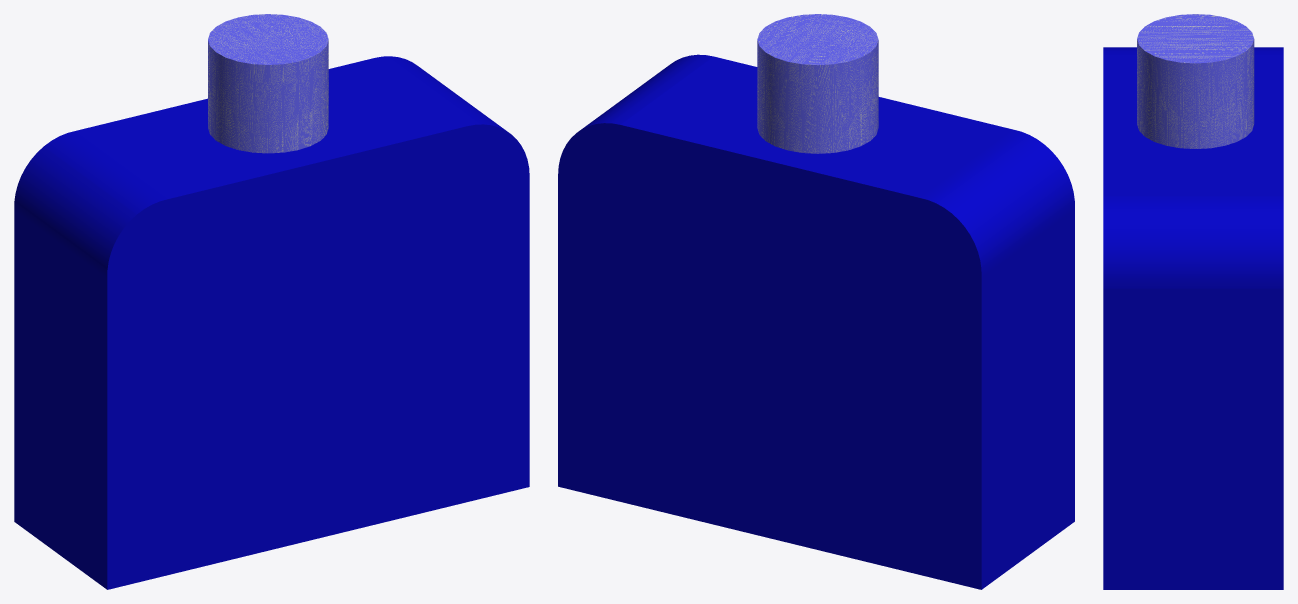
The picture shows the model from 3 angles, left to right: view 1: azimuth 30°, elevation 25°; view 2: azimuth 150°, elevation 25°; view 3: azimuth 270°, elevation 25°; orthographic projection. The views are drawn at different scales.
Visible parts, largest first — view 1: mesh7_mesh7-geometry, mesh6_mesh6-geometry; view 2: mesh7_mesh7-geometry, mesh6_mesh6-geometry; view 3: mesh7_mesh7-geometry, mesh6_mesh6-geometry.
Part boxes in pixels (left/top/right/bottom): mesh7_mesh7-geometry: left=14, top=56, right=529, bottom=589; mesh6_mesh6-geometry: left=208, top=14, right=328, bottom=153; mesh7_mesh7-geometry: left=558, top=54, right=1074, bottom=589; mesh6_mesh6-geometry: left=757, top=14, right=878, bottom=153; mesh7_mesh7-geometry: left=1103, top=47, right=1283, bottom=589; mesh6_mesh6-geometry: left=1137, top=14, right=1254, bottom=148.
Bounding box in the file's own units: 0.4319 × 0.4542 × 0.165.
